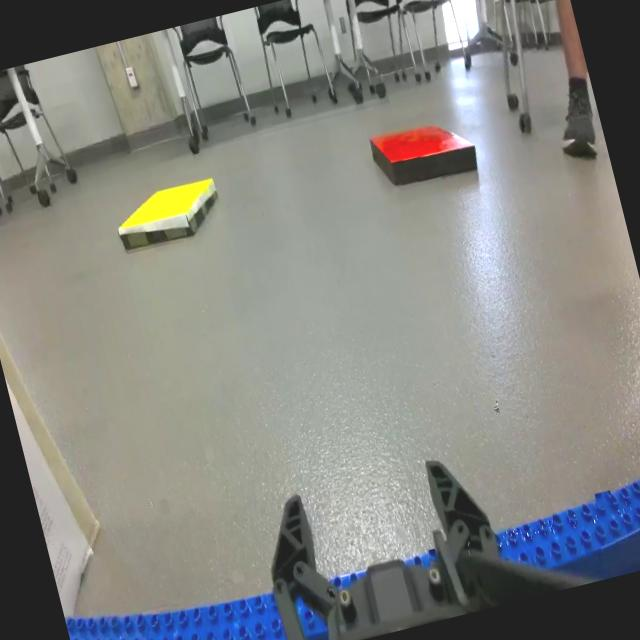red: (368, 114, 481, 194)
river: (61, 450, 640, 640)
storage cube: (0, 292, 122, 620)
yellow goal: (111, 175, 226, 253)
